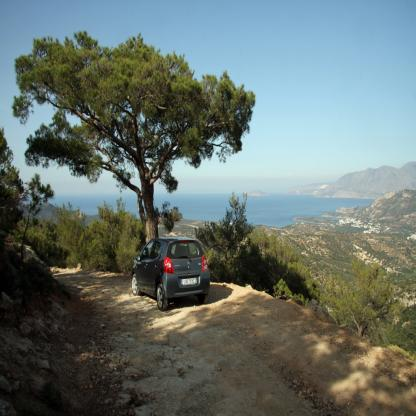Car: (132, 233, 212, 315)
